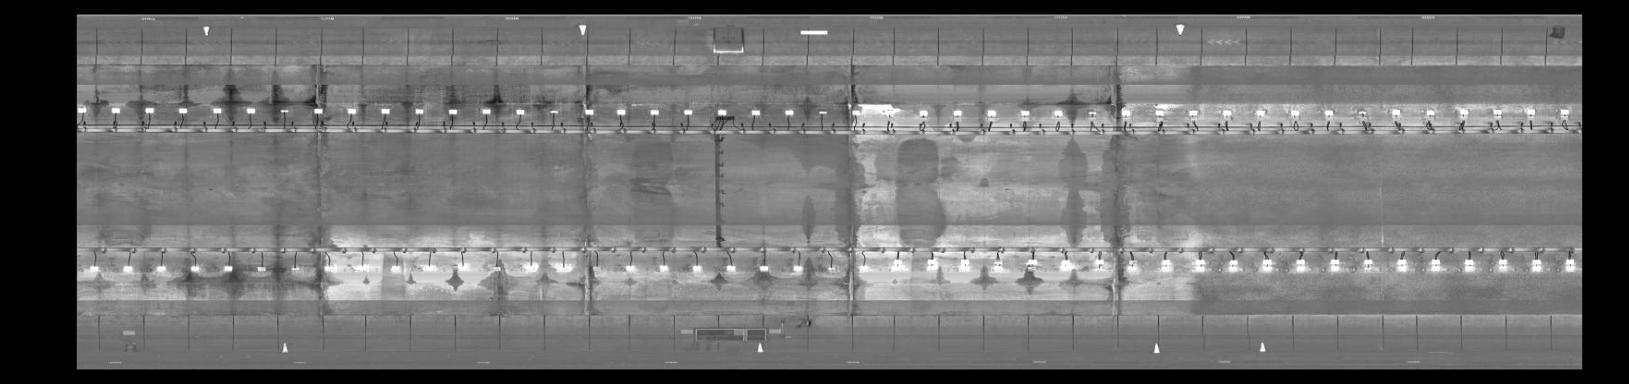light: (1289, 255, 1309, 276), (1323, 257, 1344, 275), (1087, 257, 1113, 271), (1361, 256, 1382, 273), (1256, 256, 1275, 274), (586, 262, 607, 277), (153, 260, 171, 277), (84, 262, 104, 277), (1283, 104, 1304, 118), (251, 263, 271, 277), (443, 105, 462, 119), (687, 263, 706, 277), (1392, 257, 1412, 272), (879, 106, 900, 119), (1154, 258, 1175, 272), (1114, 106, 1134, 119), (1018, 106, 1036, 121), (991, 257, 1009, 273), (1192, 258, 1209, 274), (1225, 259, 1243, 275), (1350, 106, 1371, 118), (1487, 106, 1508, 118), (185, 262, 205, 275), (520, 262, 540, 275), (1184, 107, 1204, 120), (1426, 257, 1446, 271), (1054, 258, 1075, 271), (209, 104, 226, 118), (389, 260, 406, 275), (1124, 260, 1142, 275), (488, 263, 508, 275), (555, 263, 575, 275), (1453, 107, 1473, 119), (1526, 259, 1546, 272), (958, 256, 973, 272), (288, 260, 304, 275), (1025, 257, 1042, 272), (1152, 106, 1167, 122), (343, 105, 360, 118), (890, 259, 908, 273), (914, 106, 932, 119), (1561, 258, 1579, 272), (1460, 258, 1477, 272), (220, 265, 239, 277), (579, 106, 597, 118), (789, 263, 807, 275), (949, 107, 967, 119), (1554, 106, 1573, 118), (378, 104, 394, 118), (311, 104, 327, 117), (655, 262, 671, 275), (1051, 106, 1068, 119), (275, 105, 293, 117), (748, 106, 766, 118), (1219, 106, 1236, 118), (1252, 107, 1270, 119), (1493, 257, 1514, 268), (512, 106, 531, 117), (721, 264, 740, 275), (623, 262, 639, 275), (985, 108, 1000, 121), (1321, 106, 1337, 119), (477, 106, 495, 117), (121, 262, 135, 275), (924, 257, 939, 270), (1422, 107, 1439, 118), (419, 262, 438, 271), (143, 105, 157, 118), (412, 106, 427, 118), (613, 106, 627, 118), (756, 264, 771, 276), (1085, 107, 1099, 119), (1388, 106, 1403, 118), (1524, 106, 1539, 118), (646, 106, 662, 117), (679, 106, 696, 116), (850, 108, 866, 118), (108, 105, 123, 116), (175, 105, 189, 116), (243, 105, 258, 116), (321, 263, 337, 273), (454, 260, 470, 271), (780, 108, 796, 118), (824, 265, 840, 274), (713, 107, 729, 116), (77, 105, 91, 115), (354, 262, 369, 272), (814, 108, 829, 118), (857, 264, 873, 273), (548, 107, 561, 116)
